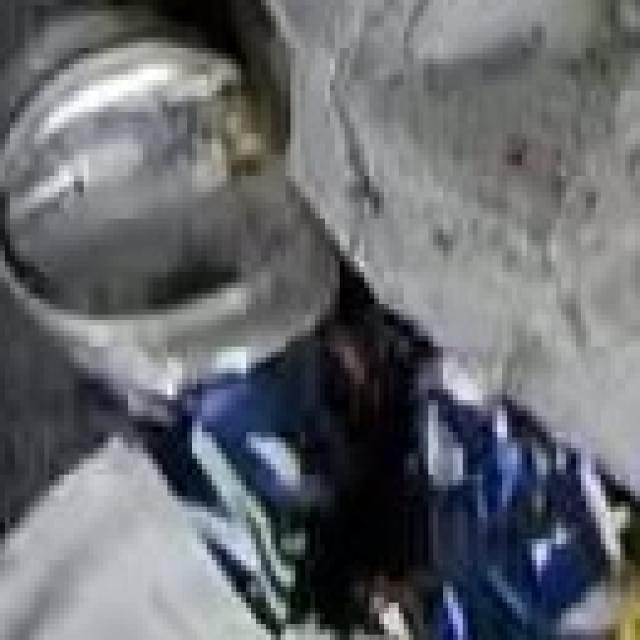litter: (0, 16, 638, 640)
